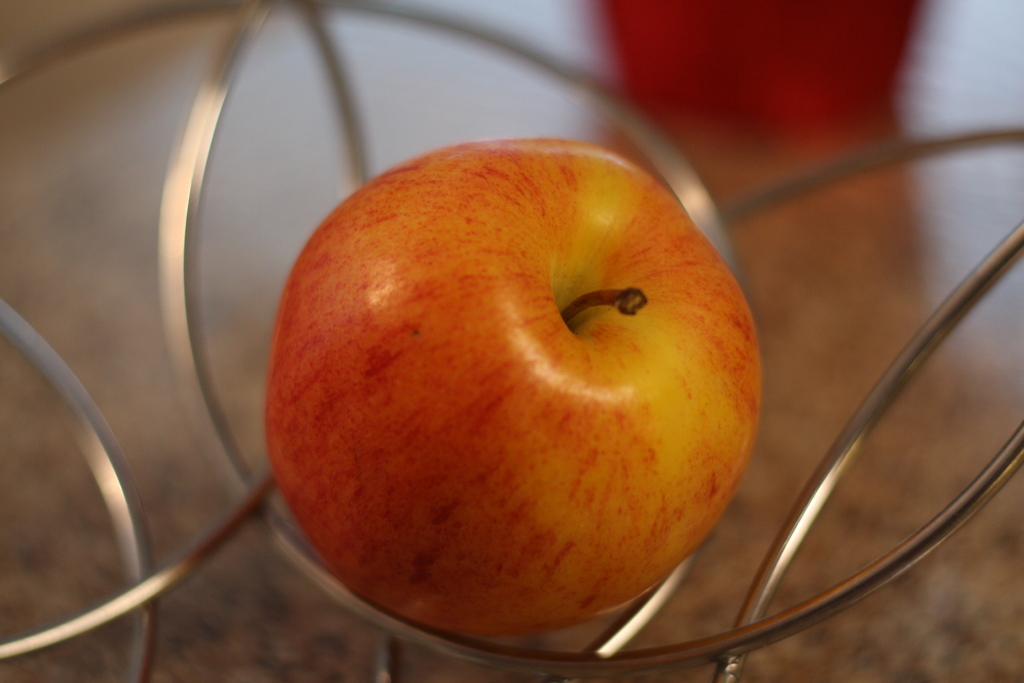Apple: (272, 158, 771, 667)
